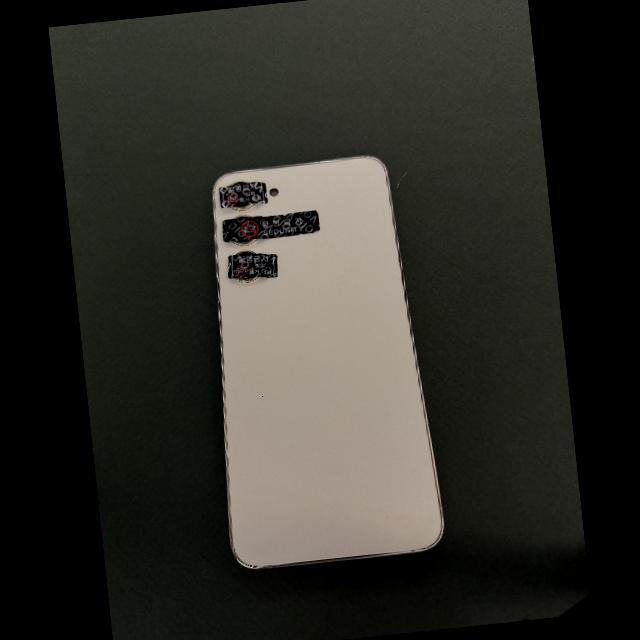lens: (232, 239, 255, 247), (231, 204, 254, 211), (237, 276, 257, 282)
phone: (212, 157, 443, 568)
sticker: (222, 210, 320, 242), (219, 181, 269, 208), (228, 253, 278, 279)
